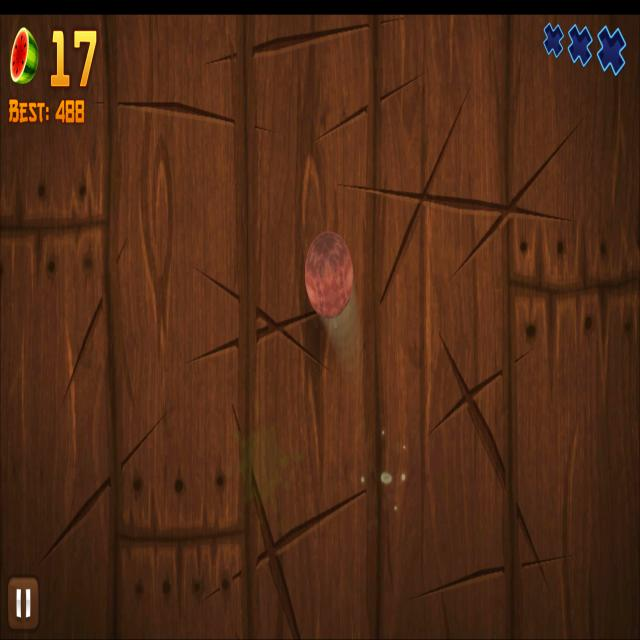fruit: (304, 230, 354, 320)
